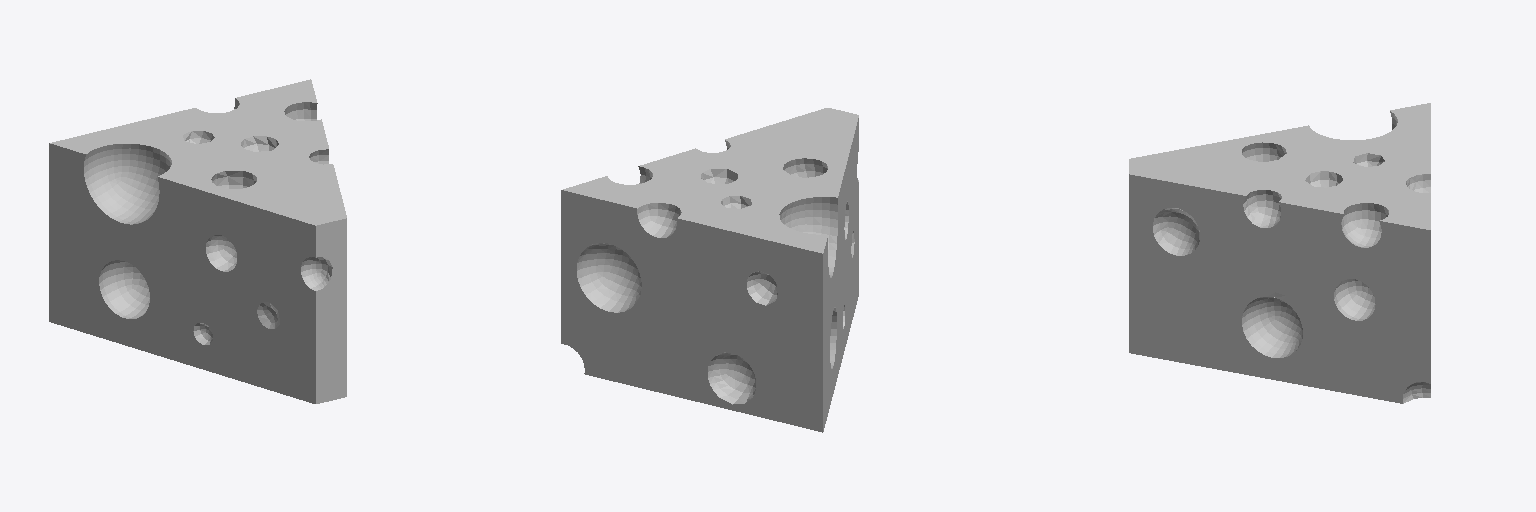
Rendered from Cheese.obj.
3 renders of one model, left to right at view 1: azimuth 30°, elevation 25°; view 2: azimuth 150°, elevation 25°; view 3: azimuth 270°, elevation 25°, orthographic.
Visible parts, largest first — view 1: Retopo_Cube.002; view 2: Retopo_Cube.002; view 3: Retopo_Cube.002.
Part boxes in pixels (bbox=[...]): Retopo_Cube.002: bbox=[49, 79, 346, 403]; Retopo_Cube.002: bbox=[561, 108, 858, 432]; Retopo_Cube.002: bbox=[1129, 103, 1430, 403].
Bounding box in the file's own units: 2 × 1.3 × 2.